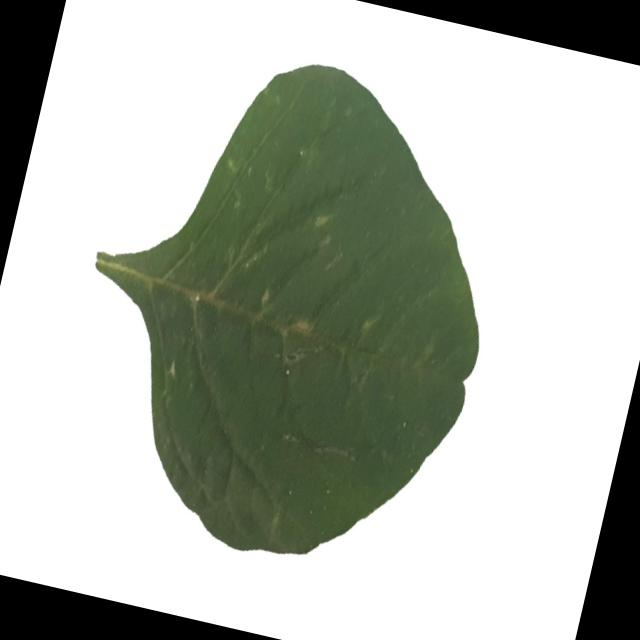Medicinal-Arive Dantu: (46, 24, 534, 590)
